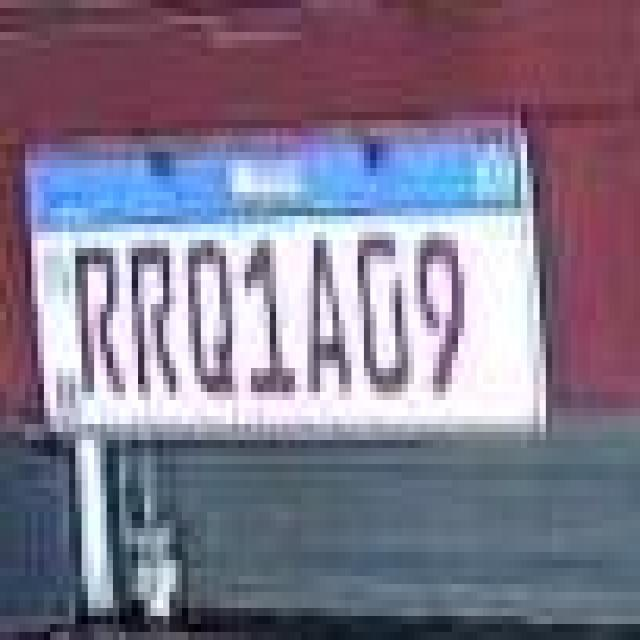0: (350, 227, 412, 403)
1: (240, 233, 298, 406)
9: (412, 221, 470, 405)
A: (304, 226, 351, 403)
Q: (184, 234, 238, 409)
R: (124, 234, 183, 401), (70, 238, 128, 402)
